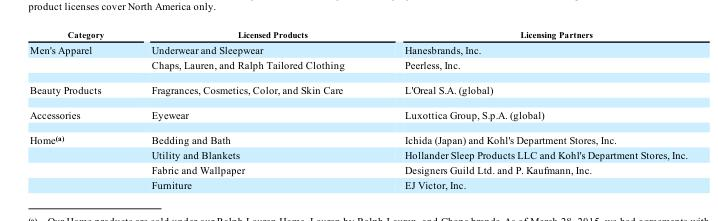table: (29, 28, 687, 190)
table column: (373, 28, 687, 190), (127, 28, 373, 190), (29, 28, 127, 190)
table column header: (29, 28, 687, 41)
table row: (29, 76, 687, 101), (29, 101, 687, 126), (29, 56, 687, 76), (29, 126, 687, 146), (29, 161, 687, 177), (29, 41, 687, 56), (29, 146, 687, 161), (29, 28, 687, 41), (29, 177, 687, 190)
table spanning cell: (29, 126, 127, 190), (29, 41, 127, 76)
